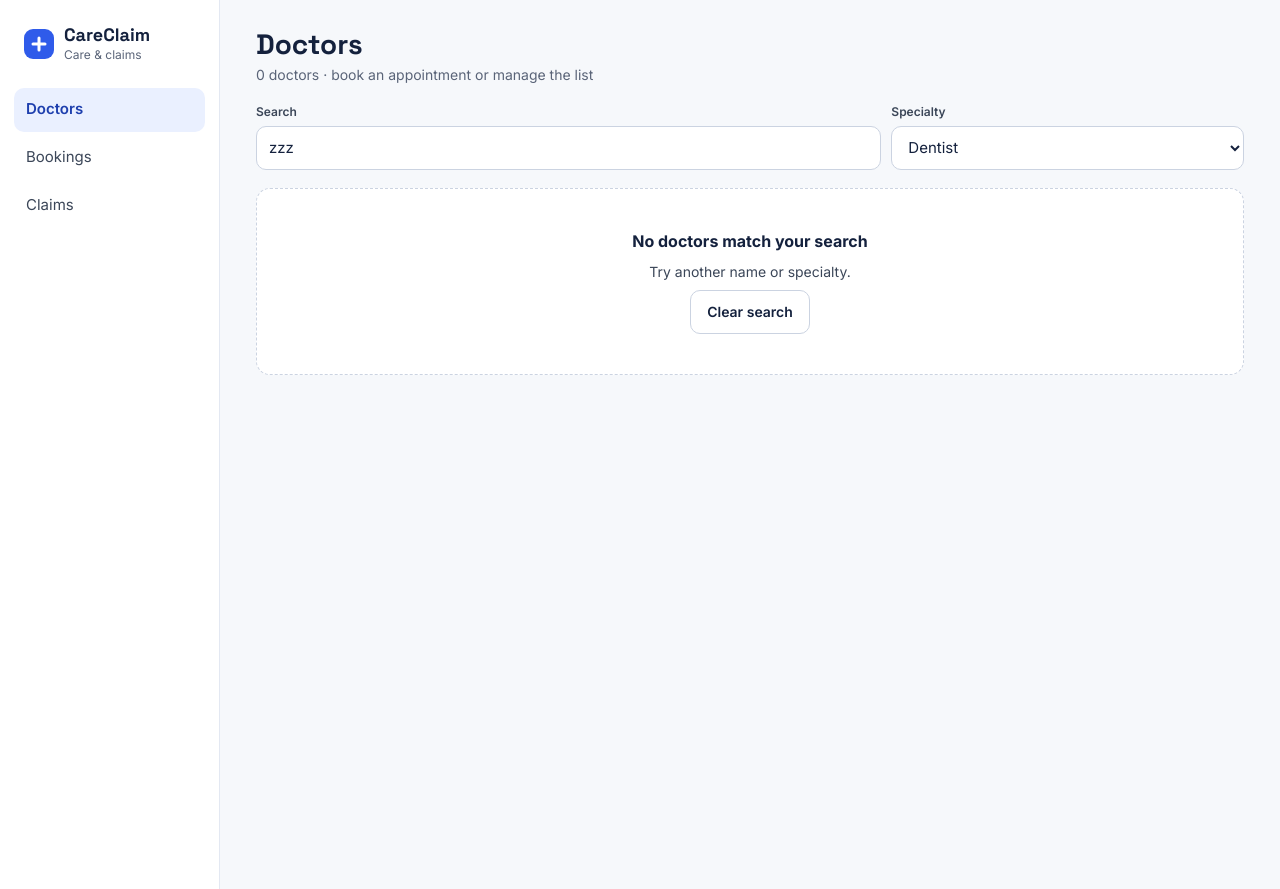
Test: DoctorsPage › Clear search empties the filters and shows all doctors again
Click the button "Clear search" at (750, 312), box [690, 290, 810, 334]
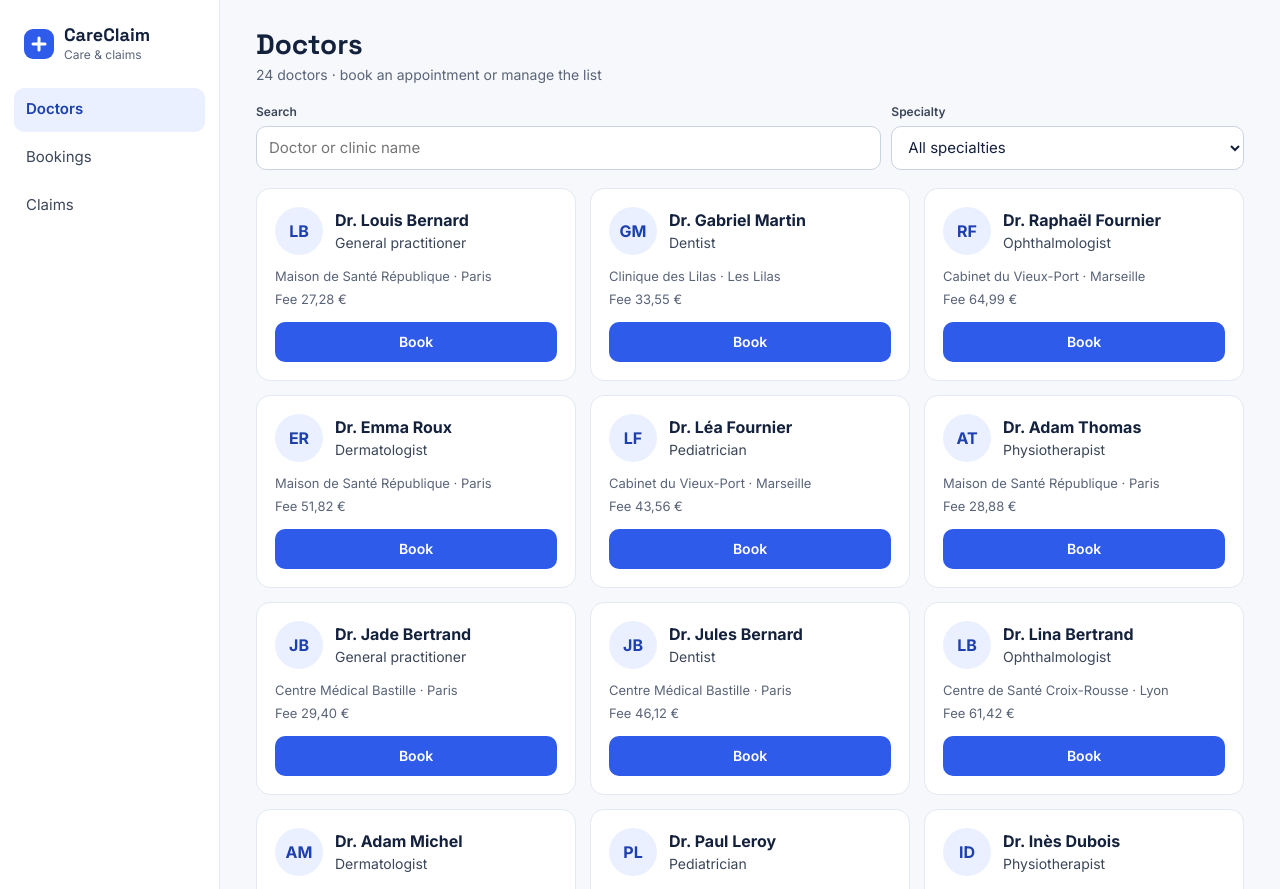
Expected: the search field labelled "Search" is empty, [256, 126, 881, 170]
Expected: the text "24 doctors · book an appointment or manage the list" is shown, [256, 64, 602, 85]
